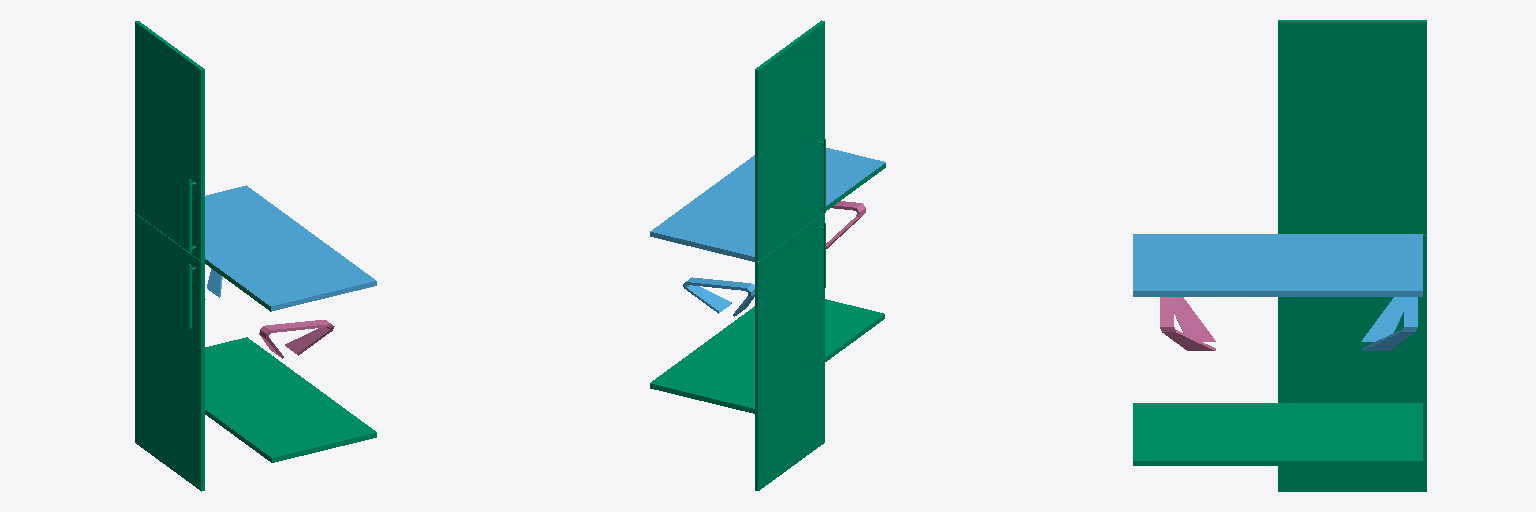
robot.urdf — partnet_902f4ee7655514ba109dc73fee74b150:
<?xml version="1.0" ?>
<robot name="partnet_902f4ee7655514ba109dc73fee74b150">
	<link name="base"/>
	<link name="link_0">
		<visual name="knob-1">
			<origin xyz="0.4438307019266087 -0.3557899195812319 0"/>
			<geometry>
				<mesh filename="textured_objs/original-36.obj"/>
			</geometry>
		</visual>
		<collision>
			<origin xyz="0.4438307019266087 -0.3557899195812319 0"/>
			<geometry>
				<mesh filename="textured_objs/original-36.obj"/>
			</geometry>
		</collision>
	</link>
	<joint name="joint_0" type="prismatic">
		<origin xyz="-0.4438307019266087 0.3557899195812319 0"/>
		<axis xyz="0 0 -1"/>
		<child link="link_0"/>
		<parent link="link_9"/>
		<limit lower="0" upper="0.002000000000000007"/>
	</joint>
	<link name="link_1">
		<visual name="knob-2">
			<origin xyz="0.2704053403934484 -0.3102552595837572 0"/>
			<geometry>
				<mesh filename="textured_objs/original-2.obj"/>
			</geometry>
		</visual>
		<visual name="knob-2">
			<origin xyz="0.2704053403934484 -0.3102552595837572 0"/>
			<geometry>
				<mesh filename="textured_objs/original-3.obj"/>
			</geometry>
		</visual>
		<collision>
			<origin xyz="0.2704053403934484 -0.3102552595837572 0"/>
			<geometry>
				<mesh filename="textured_objs/original-2.obj"/>
			</geometry>
		</collision>
		<collision>
			<origin xyz="0.2704053403934484 -0.3102552595837572 0"/>
			<geometry>
				<mesh filename="textured_objs/original-3.obj"/>
			</geometry>
		</collision>
	</link>
	<joint name="joint_1" type="continuous">
		<origin xyz="-0.2704053403934484 0.3102552595837572 0"/>
		<axis xyz="0 0 -1"/>
		<child link="link_1"/>
		<parent link="link_9"/>
	</joint>
	<link name="link_2">
		<visual name="knob-3">
			<origin xyz="0.18158144516063662 -0.3102552953567844 0"/>
			<geometry>
				<mesh filename="textured_objs/original-9.obj"/>
			</geometry>
		</visual>
		<visual name="knob-3">
			<origin xyz="0.18158144516063662 -0.3102552953567844 0"/>
			<geometry>
				<mesh filename="textured_objs/original-8.obj"/>
			</geometry>
		</visual>
		<collision>
			<origin xyz="0.18158144516063662 -0.3102552953567844 0"/>
			<geometry>
				<mesh filename="textured_objs/original-9.obj"/>
			</geometry>
		</collision>
		<collision>
			<origin xyz="0.18158144516063662 -0.3102552953567844 0"/>
			<geometry>
				<mesh filename="textured_objs/original-8.obj"/>
			</geometry>
		</collision>
	</link>
	<joint name="joint_2" type="continuous">
		<origin xyz="-0.18158144516063662 0.3102552953567844 0"/>
		<axis xyz="0 0 1"/>
		<child link="link_2"/>
		<parent link="link_9"/>
	</joint>
	<link name="link_3">
		<visual name="knob-4">
			<origin xyz="-0.009619259583757218 -0.3102553403934484 0"/>
			<geometry>
				<mesh filename="textured_objs/original-14.obj"/>
			</geometry>
		</visual>
		<visual name="knob-4">
			<origin xyz="-0.009619259583757218 -0.3102553403934484 0"/>
			<geometry>
				<mesh filename="textured_objs/original-15.obj"/>
			</geometry>
		</visual>
		<collision>
			<origin xyz="-0.009619259583757218 -0.3102553403934484 0"/>
			<geometry>
				<mesh filename="textured_objs/original-14.obj"/>
			</geometry>
		</collision>
		<collision>
			<origin xyz="-0.009619259583757218 -0.3102553403934484 0"/>
			<geometry>
				<mesh filename="textured_objs/original-15.obj"/>
			</geometry>
		</collision>
	</link>
	<joint name="joint_3" type="continuous">
		<origin xyz="0.009619259583757218 0.3102553403934484 0"/>
		<axis xyz="0 0 1"/>
		<child link="link_3"/>
		<parent link="link_9"/>
	</joint>
	<link name="link_4">
		<visual name="knob-5">
			<origin xyz="-0.09844315821244892 -0.3102553607462417 0"/>
			<geometry>
				<mesh filename="textured_objs/original-5.obj"/>
			</geometry>
		</visual>
		<visual name="knob-5">
			<origin xyz="-0.09844315821244892 -0.3102553607462417 0"/>
			<geometry>
				<mesh filename="textured_objs/original-6.obj"/>
			</geometry>
		</visual>
		<collision>
			<origin xyz="-0.09844315821244892 -0.3102553607462417 0"/>
			<geometry>
				<mesh filename="textured_objs/original-5.obj"/>
			</geometry>
		</collision>
		<collision>
			<origin xyz="-0.09844315821244892 -0.3102553607462417 0"/>
			<geometry>
				<mesh filename="textured_objs/original-6.obj"/>
			</geometry>
		</collision>
	</link>
	<joint name="joint_4" type="continuous">
		<origin xyz="0.09844315821244892 0.3102553607462417 0"/>
		<axis xyz="0 0 1"/>
		<child link="link_4"/>
		<parent link="link_9"/>
	</joint>
	<link name="link_5">
		<visual name="knob-6">
			<origin xyz="-0.1872669896436654 -0.3102554992328876 0"/>
			<geometry>
				<mesh filename="textured_objs/original-18.obj"/>
			</geometry>
		</visual>
		<visual name="knob-6">
			<origin xyz="-0.1872669896436654 -0.3102554992328876 0"/>
			<geometry>
				<mesh filename="textured_objs/original-17.obj"/>
			</geometry>
		</visual>
		<collision>
			<origin xyz="-0.1872669896436654 -0.3102554992328876 0"/>
			<geometry>
				<mesh filename="textured_objs/original-18.obj"/>
			</geometry>
		</collision>
		<collision>
			<origin xyz="-0.1872669896436654 -0.3102554992328876 0"/>
			<geometry>
				<mesh filename="textured_objs/original-17.obj"/>
			</geometry>
		</collision>
	</link>
	<joint name="joint_5" type="continuous">
		<origin xyz="0.1872669896436654 0.3102554992328876 0"/>
		<axis xyz="0 0 -1"/>
		<child link="link_5"/>
		<parent link="link_9"/>
	</joint>
	<link name="link_6">
		<visual name="knob-7">
			<origin xyz="-0.27609065960655166 -0.3102552595837572 0"/>
			<geometry>
				<mesh filename="textured_objs/original-11.obj"/>
			</geometry>
		</visual>
		<visual name="knob-7">
			<origin xyz="-0.27609065960655166 -0.3102552595837572 0"/>
			<geometry>
				<mesh filename="textured_objs/original-12.obj"/>
			</geometry>
		</visual>
		<collision>
			<origin xyz="-0.27609065960655166 -0.3102552595837572 0"/>
			<geometry>
				<mesh filename="textured_objs/original-11.obj"/>
			</geometry>
		</collision>
		<collision>
			<origin xyz="-0.27609065960655166 -0.3102552595837572 0"/>
			<geometry>
				<mesh filename="textured_objs/original-12.obj"/>
			</geometry>
		</collision>
	</link>
	<joint name="joint_6" type="continuous">
		<origin xyz="0.27609065960655166 0.3102552595837572 0"/>
		<axis xyz="0 0 -1"/>
		<child link="link_6"/>
		<parent link="link_9"/>
	</joint>
	<link name="link_7">
		<visual name="knob-8">
			<origin xyz="-0.3649144889120604 -0.31025510524137095 0"/>
			<geometry>
				<mesh filename="textured_objs/original-23.obj"/>
			</geometry>
		</visual>
		<visual name="knob-8">
			<origin xyz="-0.3649144889120604 -0.31025510524137095 0"/>
			<geometry>
				<mesh filename="textured_objs/original-24.obj"/>
			</geometry>
		</visual>
		<collision>
			<origin xyz="-0.3649144889120604 -0.31025510524137095 0"/>
			<geometry>
				<mesh filename="textured_objs/original-23.obj"/>
			</geometry>
		</collision>
		<collision>
			<origin xyz="-0.3649144889120604 -0.31025510524137095 0"/>
			<geometry>
				<mesh filename="textured_objs/original-24.obj"/>
			</geometry>
		</collision>
	</link>
	<joint name="joint_7" type="continuous">
		<origin xyz="0.3649144889120604 0.31025510524137095 0"/>
		<axis xyz="0 0 1"/>
		<child link="link_7"/>
		<parent link="link_9"/>
	</joint>
	<link name="link_8">
		<visual name="knob-9">
			<origin xyz="-0.45373825958375724 -0.3102553403934484 0"/>
			<geometry>
				<mesh filename="textured_objs/original-21.obj"/>
			</geometry>
		</visual>
		<visual name="knob-9">
			<origin xyz="-0.45373825958375724 -0.3102553403934484 0"/>
			<geometry>
				<mesh filename="textured_objs/original-20.obj"/>
			</geometry>
		</visual>
		<collision>
			<origin xyz="-0.45373825958375724 -0.3102553403934484 0"/>
			<geometry>
				<mesh filename="textured_objs/original-21.obj"/>
			</geometry>
		</collision>
		<collision>
			<origin xyz="-0.45373825958375724 -0.3102553403934484 0"/>
			<geometry>
				<mesh filename="textured_objs/original-20.obj"/>
			</geometry>
		</collision>
	</link>
	<joint name="joint_8" type="continuous">
		<origin xyz="0.45373825958375724 0.3102553403934484 0"/>
		<axis xyz="0 0 1"/>
		<child link="link_8"/>
		<parent link="link_9"/>
	</joint>
	<link name="link_9">
		<visual name="base_body-10">
			<origin xyz="0 0 0"/>
			<geometry>
				<mesh filename="textured_objs/original-41.obj"/>
			</geometry>
		</visual>
		<visual name="base_body-10">
			<origin xyz="0 0 0"/>
			<geometry>
				<mesh filename="textured_objs/original-43.obj"/>
			</geometry>
		</visual>
		<visual name="base_body-10">
			<origin xyz="0 0 0"/>
			<geometry>
				<mesh filename="textured_objs/original-52.obj"/>
			</geometry>
		</visual>
		<visual name="base_body-10">
			<origin xyz="0 0 0"/>
			<geometry>
				<mesh filename="textured_objs/original-33.obj"/>
			</geometry>
		</visual>
		<visual name="base_body-10">
			<origin xyz="0 0 0"/>
			<geometry>
				<mesh filename="textured_objs/original-44.obj"/>
			</geometry>
		</visual>
		<visual name="base_body-10">
			<origin xyz="0 0 0"/>
			<geometry>
				<mesh filename="textured_objs/original-45.obj"/>
			</geometry>
		</visual>
		<visual name="base_body-10">
			<origin xyz="0 0 0"/>
			<geometry>
				<mesh filename="textured_objs/original-35.obj"/>
			</geometry>
		</visual>
		<visual name="base_body-10">
			<origin xyz="0 0 0"/>
			<geometry>
				<mesh filename="textured_objs/original-49.obj"/>
			</geometry>
		</visual>
		<visual name="base_body-10">
			<origin xyz="0 0 0"/>
			<geometry>
				<mesh filename="textured_objs/original-39.obj"/>
			</geometry>
		</visual>
		<visual name="base_body-10">
			<origin xyz="0 0 0"/>
			<geometry>
				<mesh filename="textured_objs/original-54.obj"/>
			</geometry>
		</visual>
		<visual name="base_body-10">
			<origin xyz="0 0 0"/>
			<geometry>
				<mesh filename="textured_objs/original-51.obj"/>
			</geometry>
		</visual>
		<visual name="base_body-10">
			<origin xyz="0 0 0"/>
			<geometry>
				<mesh filename="textured_objs/original-55.obj"/>
			</geometry>
		</visual>
		<visual name="base_body-10">
			<origin xyz="0 0 0"/>
			<geometry>
				<mesh filename="textured_objs/original-50.obj"/>
			</geometry>
		</visual>
		<visual name="base_body-10">
			<origin xyz="0 0 0"/>
			<geometry>
				<mesh filename="textured_objs/original-37.obj"/>
			</geometry>
		</visual>
		<visual name="base_body-10">
			<origin xyz="0 0 0"/>
			<geometry>
				<mesh filename="textured_objs/original-48.obj"/>
			</geometry>
		</visual>
		<visual name="base_body-10">
			<origin xyz="0 0 0"/>
			<geometry>
				<mesh filename="textured_objs/original-56.obj"/>
			</geometry>
		</visual>
		<visual name="base_body-10">
			<origin xyz="0 0 0"/>
			<geometry>
				<mesh filename="textured_objs/original-38.obj"/>
			</geometry>
		</visual>
		<visual name="base_body-10">
			<origin xyz="0 0 0"/>
			<geometry>
				<mesh filename="textured_objs/original-34.obj"/>
			</geometry>
		</visual>
		<visual name="base_body-10">
			<origin xyz="0 0 0"/>
			<geometry>
				<mesh filename="textured_objs/original-42.obj"/>
			</geometry>
		</visual>
		<visual name="base_body-10">
			<origin xyz="0 0 0"/>
			<geometry>
				<mesh filename="textured_objs/original-47.obj"/>
			</geometry>
		</visual>
		<visual name="base_body-10">
			<origin xyz="0 0 0"/>
			<geometry>
				<mesh filename="textured_objs/original-53.obj"/>
			</geometry>
		</visual>
		<visual name="base_body-10">
			<origin xyz="0 0 0"/>
			<geometry>
				<mesh filename="textured_objs/original-40.obj"/>
			</geometry>
		</visual>
		<visual name="base_body-10">
			<origin xyz="0 0 0"/>
			<geometry>
				<mesh filename="textured_objs/original-46.obj"/>
			</geometry>
		</visual>
		<collision>
			<origin xyz="0 0 0"/>
			<geometry>
				<mesh filename="textured_objs/original-41.obj"/>
			</geometry>
		</collision>
		<collision>
			<origin xyz="0 0 0"/>
			<geometry>
				<mesh filename="textured_objs/original-43.obj"/>
			</geometry>
		</collision>
		<collision>
			<origin xyz="0 0 0"/>
			<geometry>
				<mesh filename="textured_objs/original-52.obj"/>
			</geometry>
		</collision>
		<collision>
			<origin xyz="0 0 0"/>
			<geometry>
				<mesh filename="textured_objs/original-33.obj"/>
			</geometry>
		</collision>
		<collision>
			<origin xyz="0 0 0"/>
			<geometry>
				<mesh filename="textured_objs/original-44.obj"/>
			</geometry>
		</collision>
		<collision>
			<origin xyz="0 0 0"/>
			<geometry>
				<mesh filename="textured_objs/original-45.obj"/>
			</geometry>
		</collision>
		<collision>
			<origin xyz="0 0 0"/>
			<geometry>
				<mesh filename="textured_objs/original-35.obj"/>
			</geometry>
		</collision>
		<collision>
			<origin xyz="0 0 0"/>
			<geometry>
				<mesh filename="textured_objs/original-49.obj"/>
			</geometry>
		</collision>
		<collision>
			<origin xyz="0 0 0"/>
			<geometry>
				<mesh filename="textured_objs/original-39.obj"/>
			</geometry>
		</collision>
		<collision>
			<origin xyz="0 0 0"/>
			<geometry>
				<mesh filename="textured_objs/original-54.obj"/>
			</geometry>
		</collision>
		<collision>
			<origin xyz="0 0 0"/>
			<geometry>
				<mesh filename="textured_objs/original-51.obj"/>
			</geometry>
		</collision>
		<collision>
			<origin xyz="0 0 0"/>
			<geometry>
				<mesh filename="textured_objs/original-55.obj"/>
			</geometry>
		</collision>
		<collision>
			<origin xyz="0 0 0"/>
			<geometry>
				<mesh filename="textured_objs/original-50.obj"/>
			</geometry>
		</collision>
		<collision>
			<origin xyz="0 0 0"/>
			<geometry>
				<mesh filename="textured_objs/original-37.obj"/>
			</geometry>
		</collision>
		<collision>
			<origin xyz="0 0 0"/>
			<geometry>
				<mesh filename="textured_objs/original-48.obj"/>
			</geometry>
		</collision>
		<collision>
			<origin xyz="0 0 0"/>
			<geometry>
				<mesh filename="textured_objs/original-56.obj"/>
			</geometry>
		</collision>
		<collision>
			<origin xyz="0 0 0"/>
			<geometry>
				<mesh filename="textured_objs/original-38.obj"/>
			</geometry>
		</collision>
		<collision>
			<origin xyz="0 0 0"/>
			<geometry>
				<mesh filename="textured_objs/original-34.obj"/>
			</geometry>
		</collision>
		<collision>
			<origin xyz="0 0 0"/>
			<geometry>
				<mesh filename="textured_objs/original-42.obj"/>
			</geometry>
		</collision>
		<collision>
			<origin xyz="0 0 0"/>
			<geometry>
				<mesh filename="textured_objs/original-47.obj"/>
			</geometry>
		</collision>
		<collision>
			<origin xyz="0 0 0"/>
			<geometry>
				<mesh filename="textured_objs/original-53.obj"/>
			</geometry>
		</collision>
		<collision>
			<origin xyz="0 0 0"/>
			<geometry>
				<mesh filename="textured_objs/original-40.obj"/>
			</geometry>
		</collision>
		<collision>
			<origin xyz="0 0 0"/>
			<geometry>
				<mesh filename="textured_objs/original-46.obj"/>
			</geometry>
		</collision>
	</link>
	<joint name="joint_9" type="fixed">
		<origin rpy="1.570796326794897 0 -1.570796326794897" xyz="0 0 0"/>
		<child link="link_9"/>
		<parent link="base"/>
	</joint>
</robot>

--- Facts derived from the render (not from the file) ---
The picture shows the robot from 3 angles, left to right: view 1: azimuth 30°, elevation 25°; view 2: azimuth 150°, elevation 25°; view 3: azimuth 270°, elevation 25°; orthographic projection.
Robot: partnet_902f4ee7655514ba109dc73fee74b150 — 11 links, 10 joints (8 continuous, 1 prismatic, 1 fixed); root link base; default pose: all joints at 0.
Links seen in each view (by area): view 1: link_9, link_0, link_5; view 2: link_9, link_0, link_8; view 3: link_9, link_0, link_8, link_5.
Boxes of the visible links, bbox=[...] form: link_9: bbox=[135, 21, 376, 491]; link_0: bbox=[205, 185, 376, 311]; link_5: bbox=[259, 320, 334, 358]; link_9: bbox=[650, 20, 885, 490]; link_0: bbox=[650, 148, 885, 261]; link_8: bbox=[683, 277, 754, 316]; link_9: bbox=[1133, 20, 1426, 491]; link_0: bbox=[1133, 234, 1422, 296]; link_8: bbox=[1362, 297, 1417, 350]; link_5: bbox=[1160, 297, 1215, 350].
Bounding box of the posed robot: 0.4955 × 0.9642 × 1.7 m (x, y, z).
Meshes: 40 distinct files referenced, 12 mesh visuals loaded (12 OBJ); not drawn: 28 (reference not matched to a file when rendering).